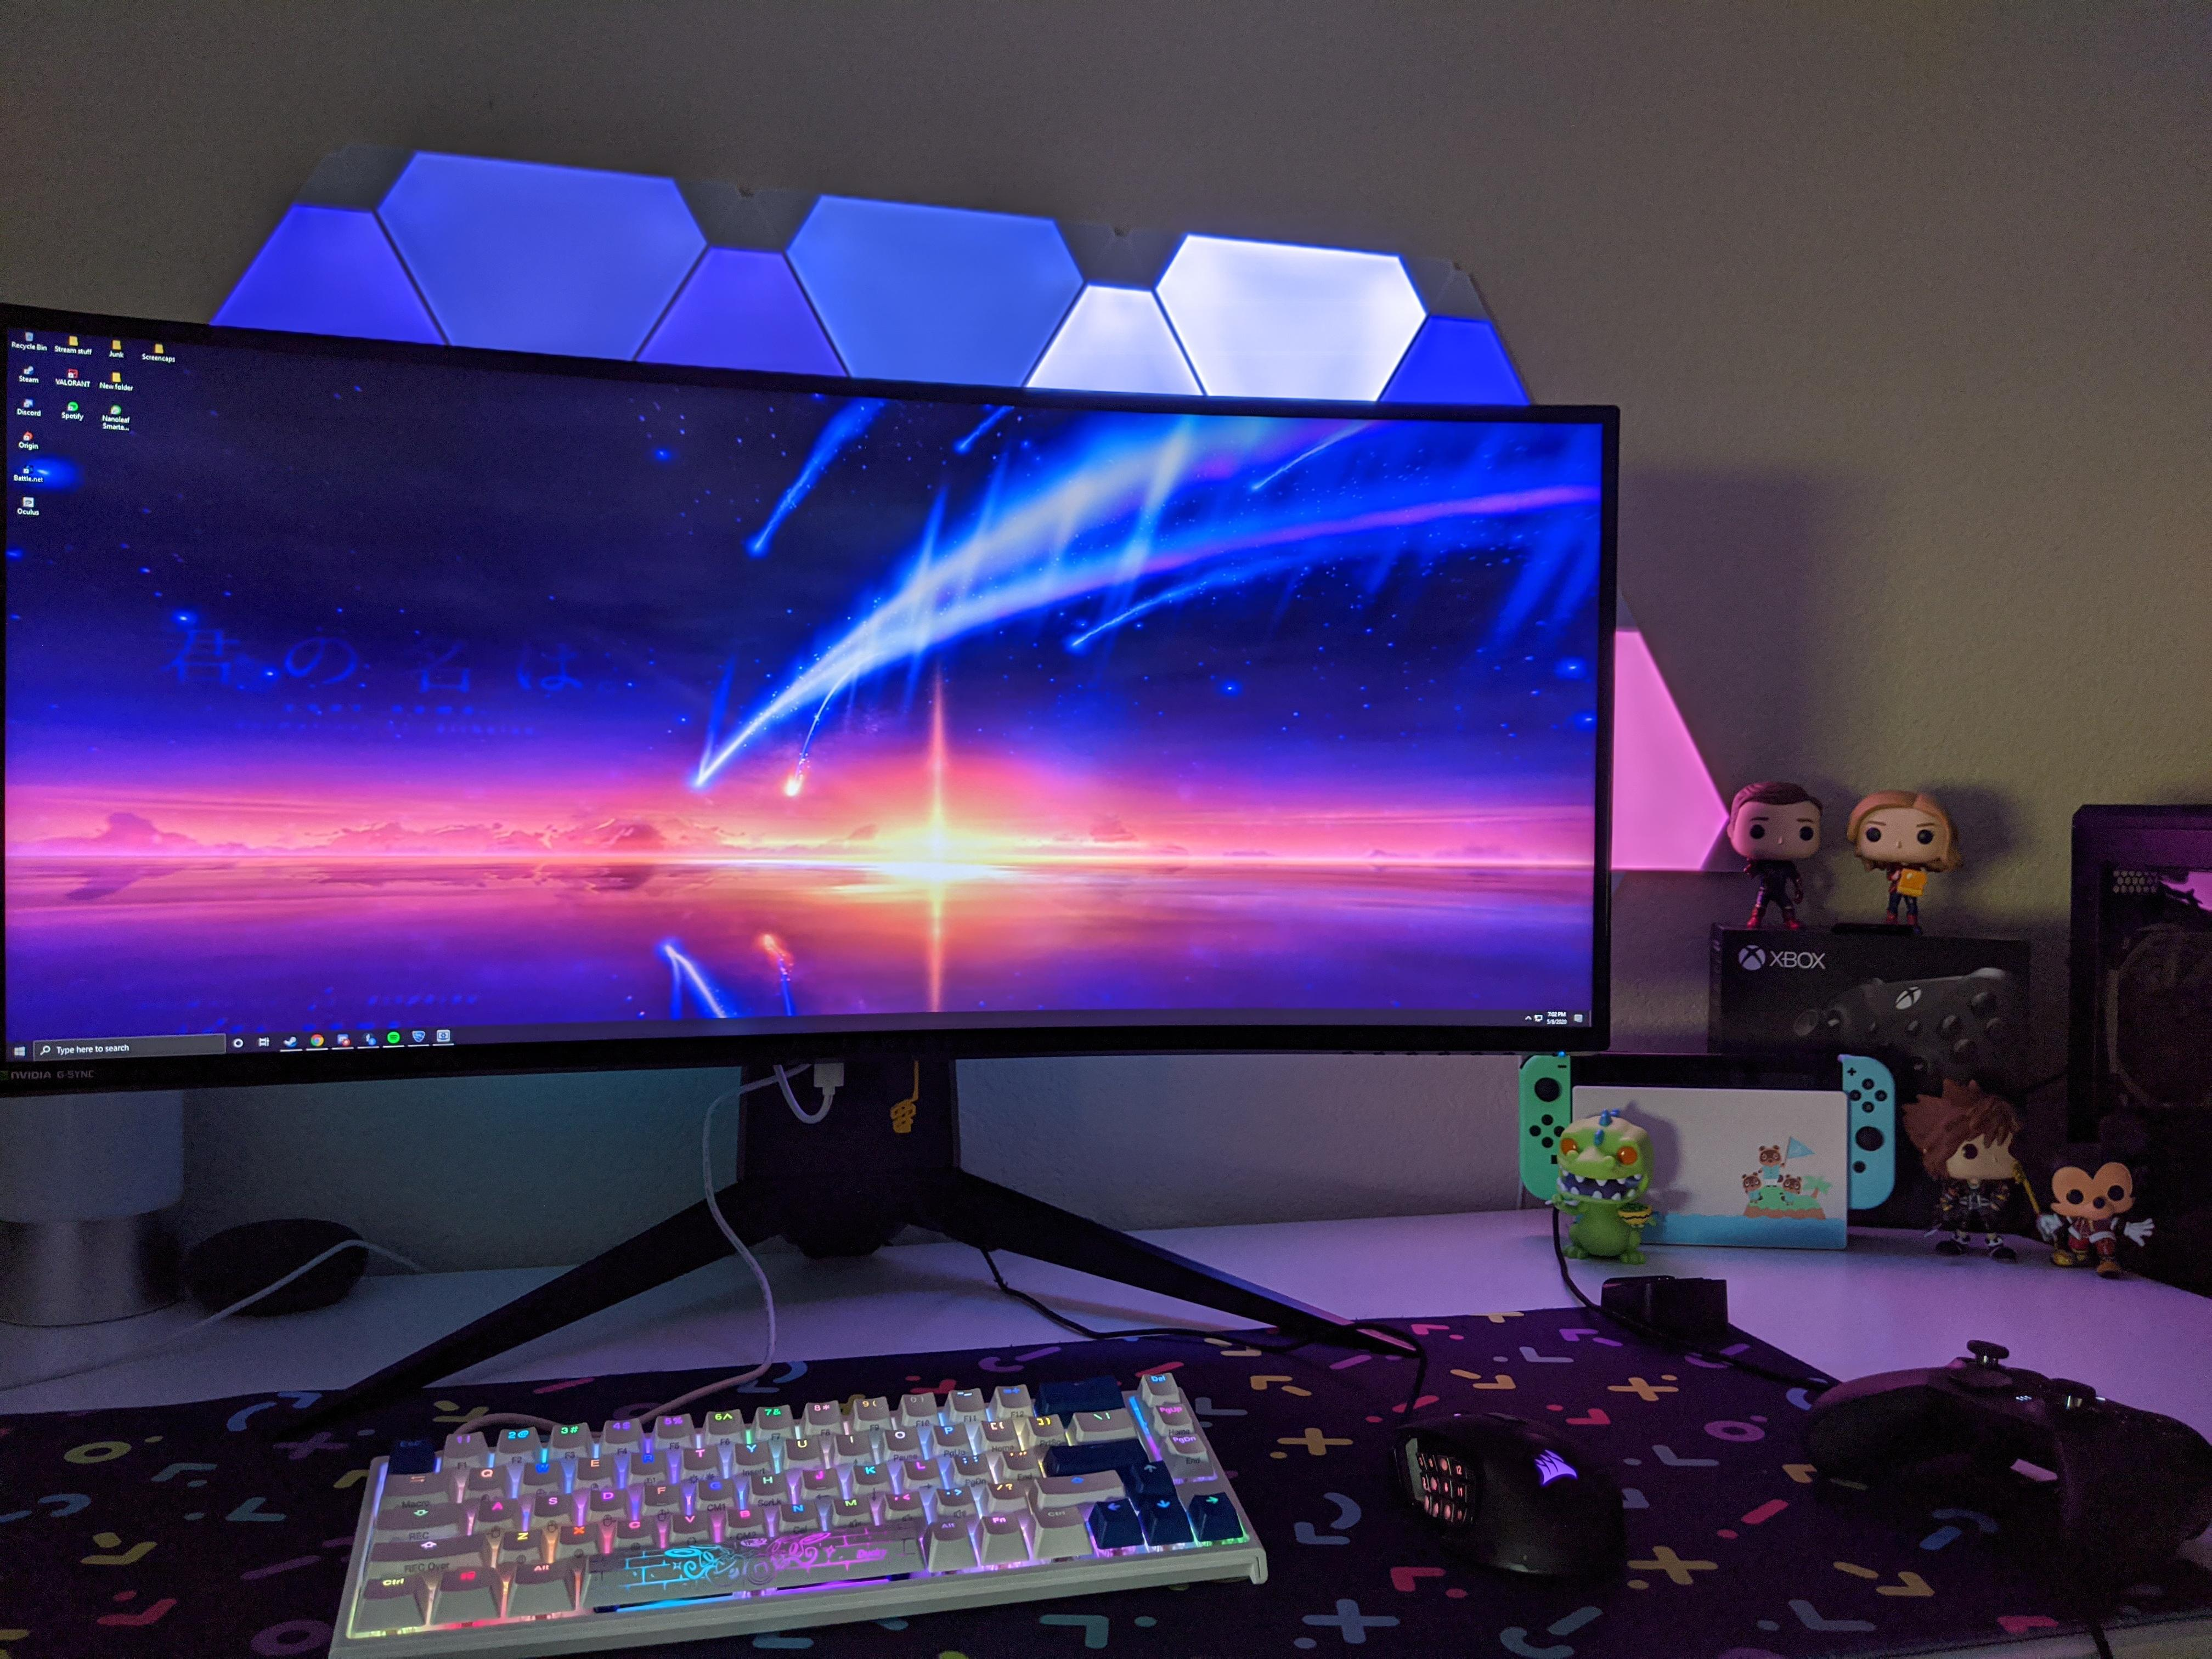Decoration (Miniature): (1900, 1075, 2031, 1263), (2017, 1147, 2156, 1276), (1848, 786, 1965, 932), (1543, 1117, 1658, 1262), (1724, 781, 1822, 929)
Desktop (Windows): (2062, 803, 2212, 1297)
Gaming Console: (1791, 1338, 2212, 1595)
Gaming Controller: (1517, 1054, 1897, 1251)
Keyboard (Gaming): (324, 1375, 1270, 1659)
Lamp (Desk): (0, 1091, 188, 1328)
Monitor (iMac): (0, 303, 1620, 1317)
Mouse (Gaming): (1386, 1413, 1629, 1588)
Mousepad (Generic): (0, 1297, 2212, 1659)
